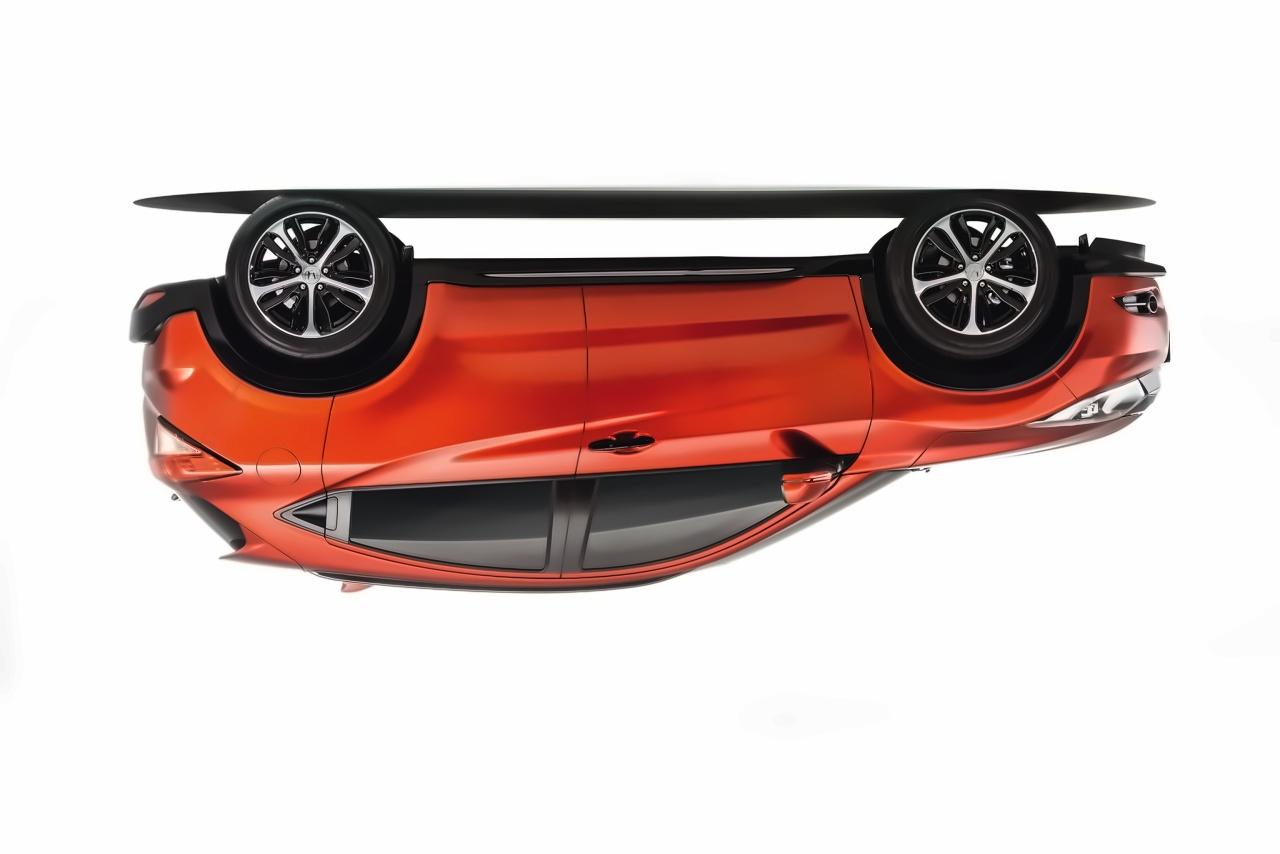Car hood: (910, 416, 1139, 467)
Fender - -F-L-: (845, 267, 1076, 474)
Fender - -R-L-: (219, 367, 327, 521)
Front bumper: (1054, 245, 1180, 401)
Headlight - -L-: (1014, 367, 1160, 433)
Passenger-s door - -F-L-: (566, 277, 871, 588)
Passenger-s door - -R-L-: (320, 280, 586, 586)
Rear bumper: (104, 275, 215, 451)
Rear light - -L-: (127, 404, 250, 494)
Side bumper - -L-: (397, 242, 877, 295)
Side mirror - -L-: (769, 452, 847, 521)
